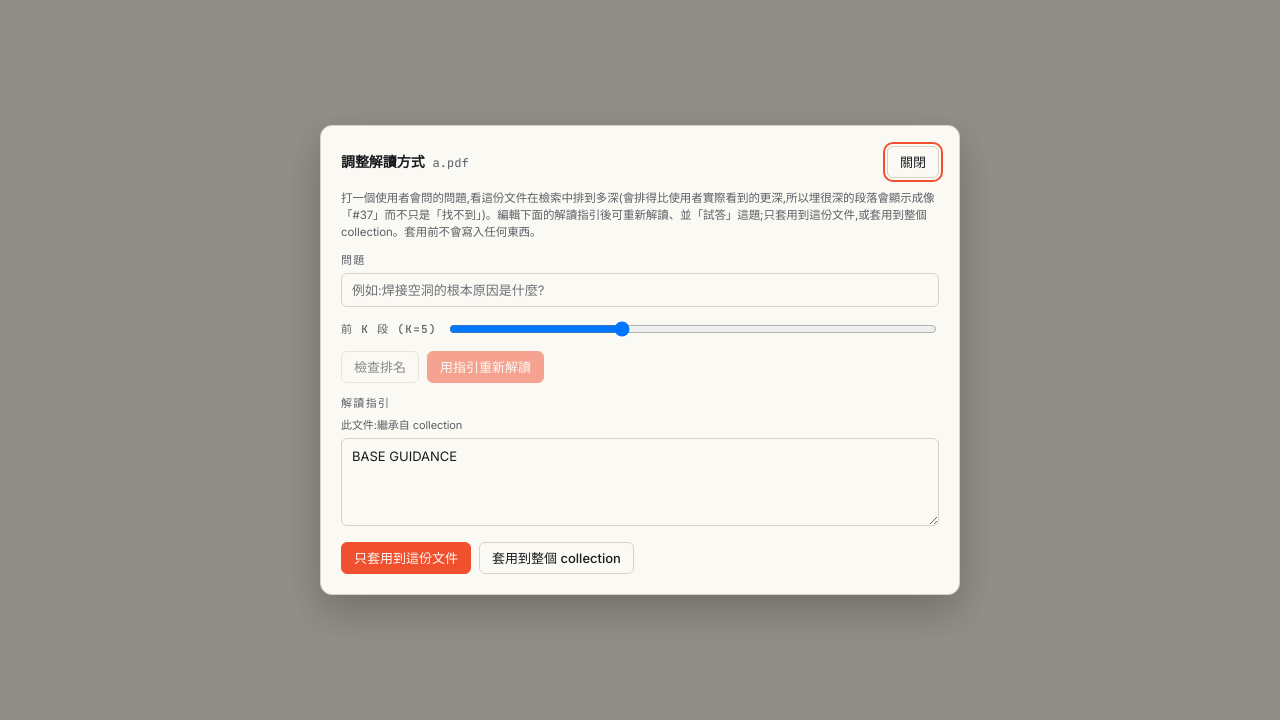
Test: TuneParsingModal › saves the guidance for this document only
Replace the text in the text box labelled "解讀指引" with "doc-only steering" at (640, 482), box [341,438,939,526]
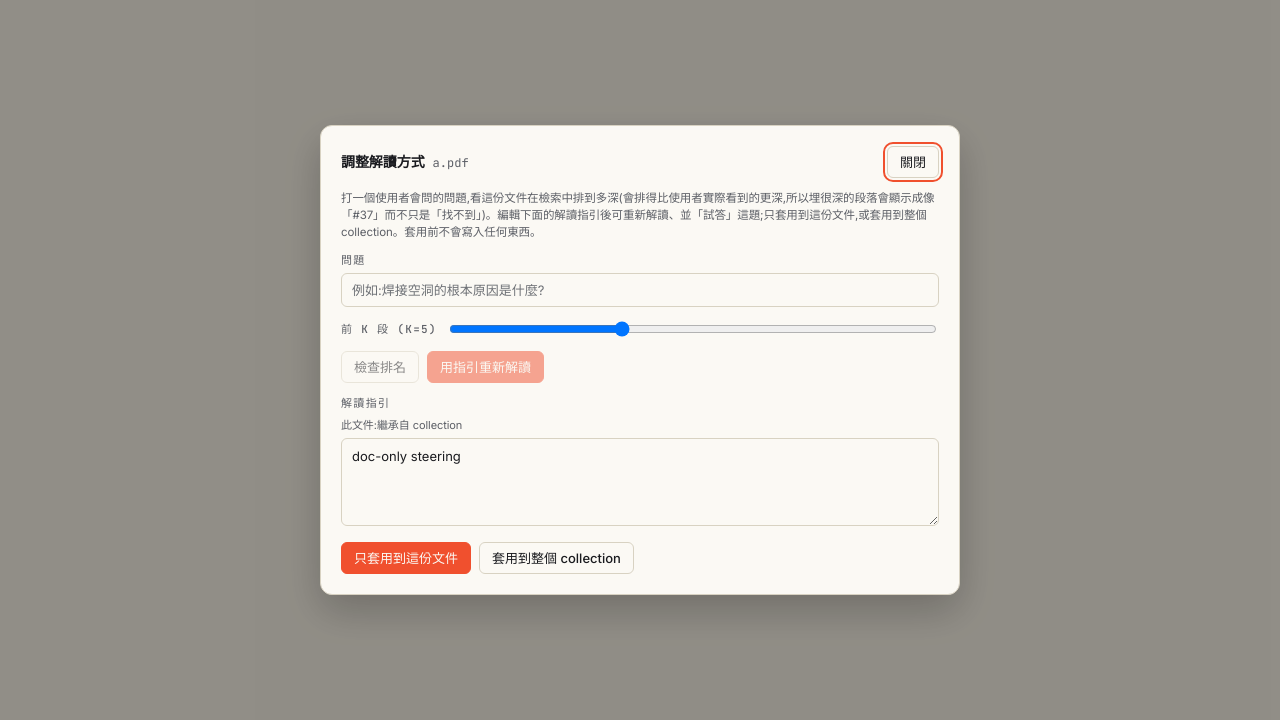
Click the button "只套用到這份文件" at (406, 558), box [341,542,471,574]
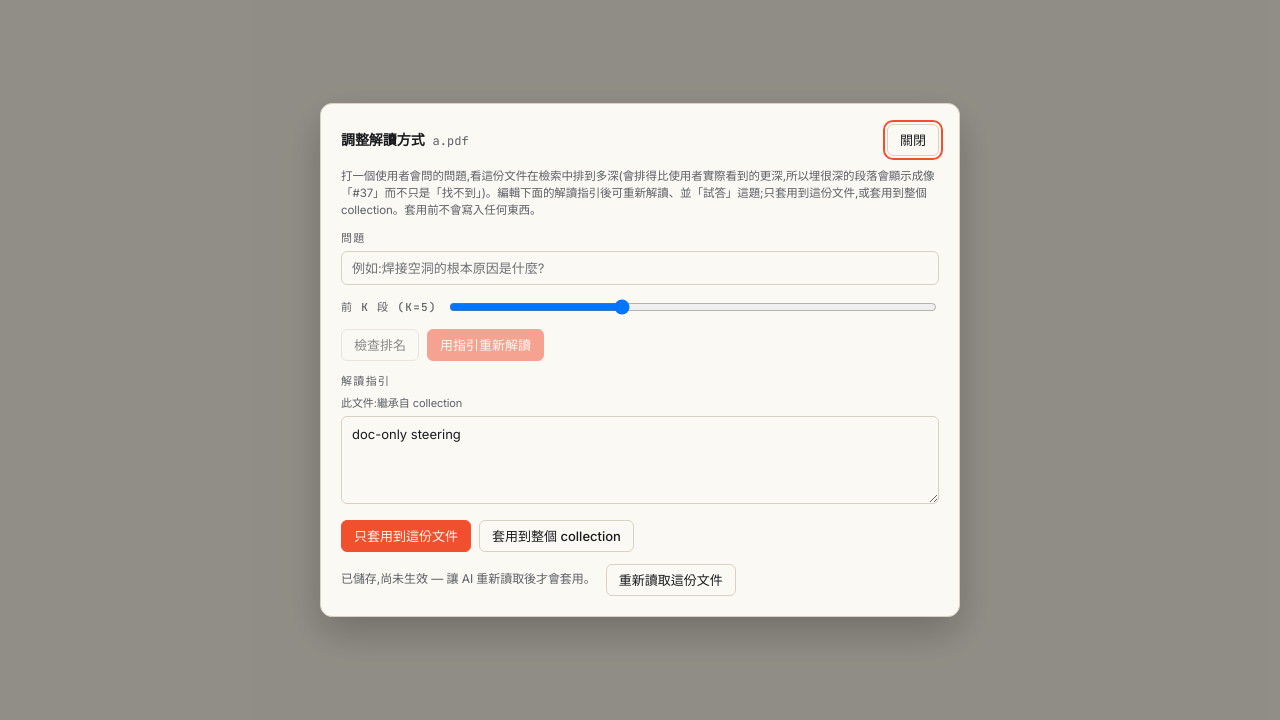
expect the button "重新讀取這份文件" is shown: met, box [606,564,736,596]
